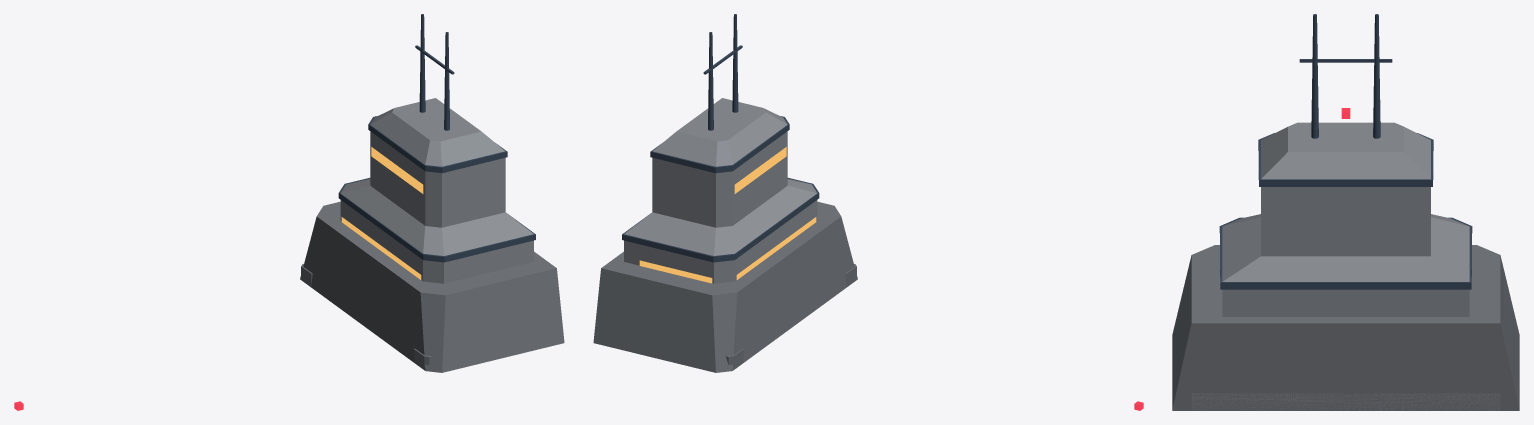
Rendered from IC_Keep.glb.
3 renders of one model, left to right at view 1: azimuth 30°, elevation 25°; view 2: azimuth 150°, elevation 25°; view 3: azimuth 270°, elevation 25°, orthographic. The views are drawn at different scales.
Visible parts, largest first — view 1: IC_Keep__base, IC_Keep__tiers, IC_Keep__tier_trim, IC_Keep__masts, IC_Keep__bridge_band; view 2: IC_Keep__base, IC_Keep__tiers, IC_Keep__tier_trim, IC_Keep__bridge_band, IC_Keep__masts; view 3: IC_Keep__base, IC_Keep__tiers, IC_Keep__body, IC_Keep__tier_trim, IC_Keep__masts.
Boxes of the visible parts, x1=… form: IC_Keep__base: x1=300, y1=201, x2=564, y2=372; IC_Keep__tiers: x1=340, y1=98, x2=533, y2=283; IC_Keep__tier_trim: x1=338, y1=116, x2=535, y2=262; IC_Keep__masts: x1=415, y1=14, x2=454, y2=130; IC_Keep__bridge_band: x1=341, y1=147, x2=423, y2=279; IC_Keep__base: x1=593, y1=201, x2=857, y2=372; IC_Keep__tiers: x1=624, y1=98, x2=817, y2=283; IC_Keep__tier_trim: x1=622, y1=116, x2=819, y2=262; IC_Keep__bridge_band: x1=639, y1=147, x2=816, y2=283; IC_Keep__masts: x1=703, y1=14, x2=742, y2=130; IC_Keep__base: x1=1172, y1=245, x2=1519, y2=410; IC_Keep__tiers: x1=1222, y1=122, x2=1469, y2=316; IC_Keep__body: x1=1191, y1=393, x2=1500, y2=410; IC_Keep__tier_trim: x1=1219, y1=133, x2=1472, y2=289; IC_Keep__masts: x1=1299, y1=14, x2=1392, y2=138.
Size of the model in its own units: 36.22 by 20.5 by 18.
